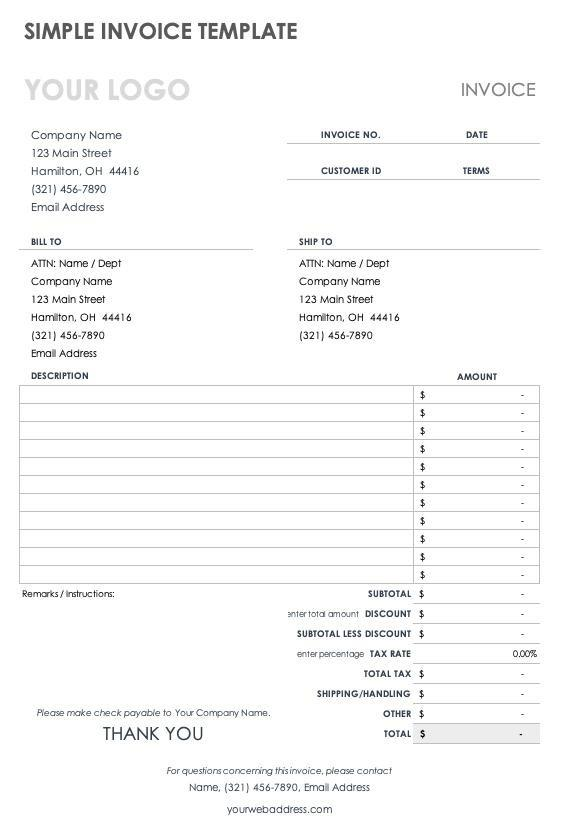ROI: (17, 367, 542, 580), (285, 586, 538, 741), (26, 236, 253, 362), (288, 122, 545, 183), (26, 117, 151, 224), (31, 700, 275, 721)
